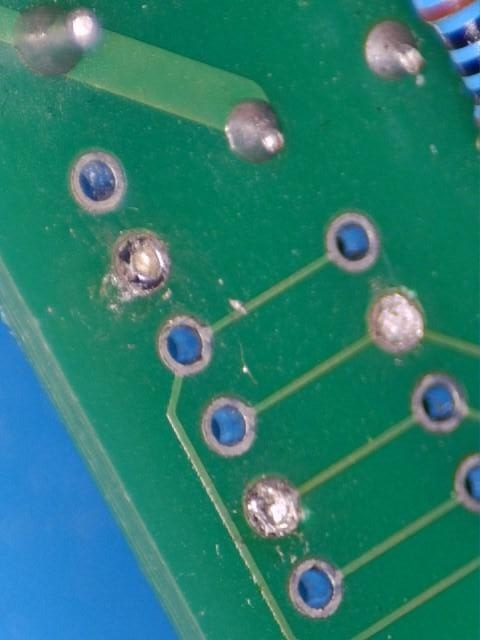pcb_defect: (113, 230, 170, 291), (244, 477, 301, 538), (369, 293, 425, 350)
